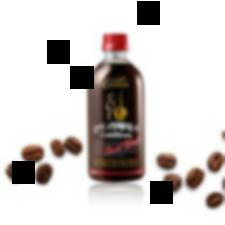contrabass_sweetblack: (84, 32, 148, 185)
